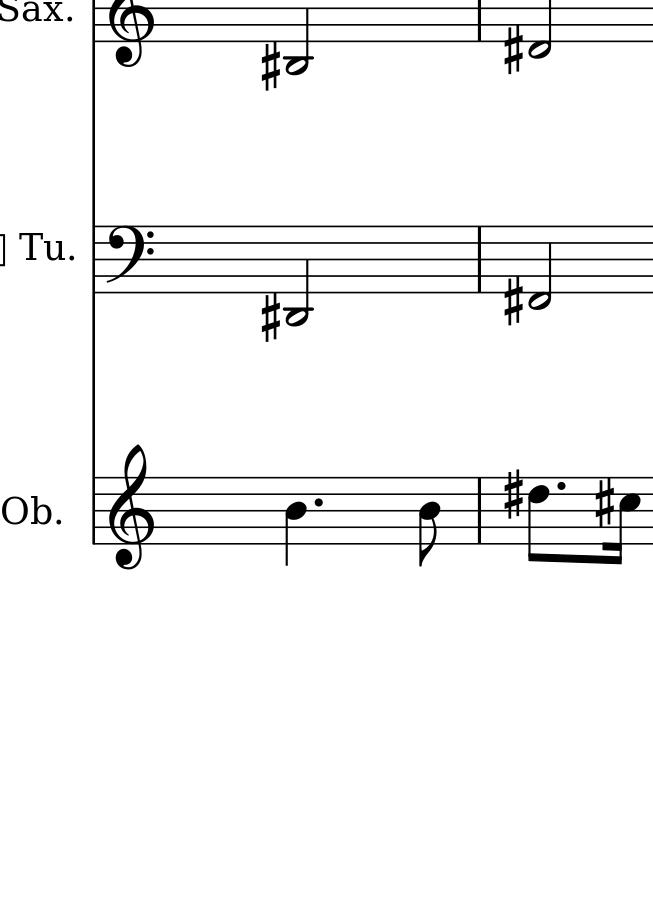16_5: (607, 478, 641, 567)
2_-1: (527, 224, 554, 310)
2_-3: (284, 223, 314, 326)
4_4: (284, 476, 307, 569)
8_4: (417, 476, 442, 568)
8_6: (526, 474, 551, 567)
Fclef: (103, 223, 154, 294)
Gclef: (107, 443, 153, 569)
Ob: (3, 494, 50, 530)
Sax: (1, 1, 64, 26)
Sharp: (593, 476, 616, 530), (259, 40, 281, 93), (502, 469, 524, 521), (503, 275, 524, 328), (259, 292, 280, 344), (503, 23, 523, 76)
Single_barline: (88, 225, 103, 294), (472, 226, 487, 293), (472, 478, 487, 543), (88, 477, 101, 545)
dot: (310, 496, 326, 509), (554, 478, 567, 492)
